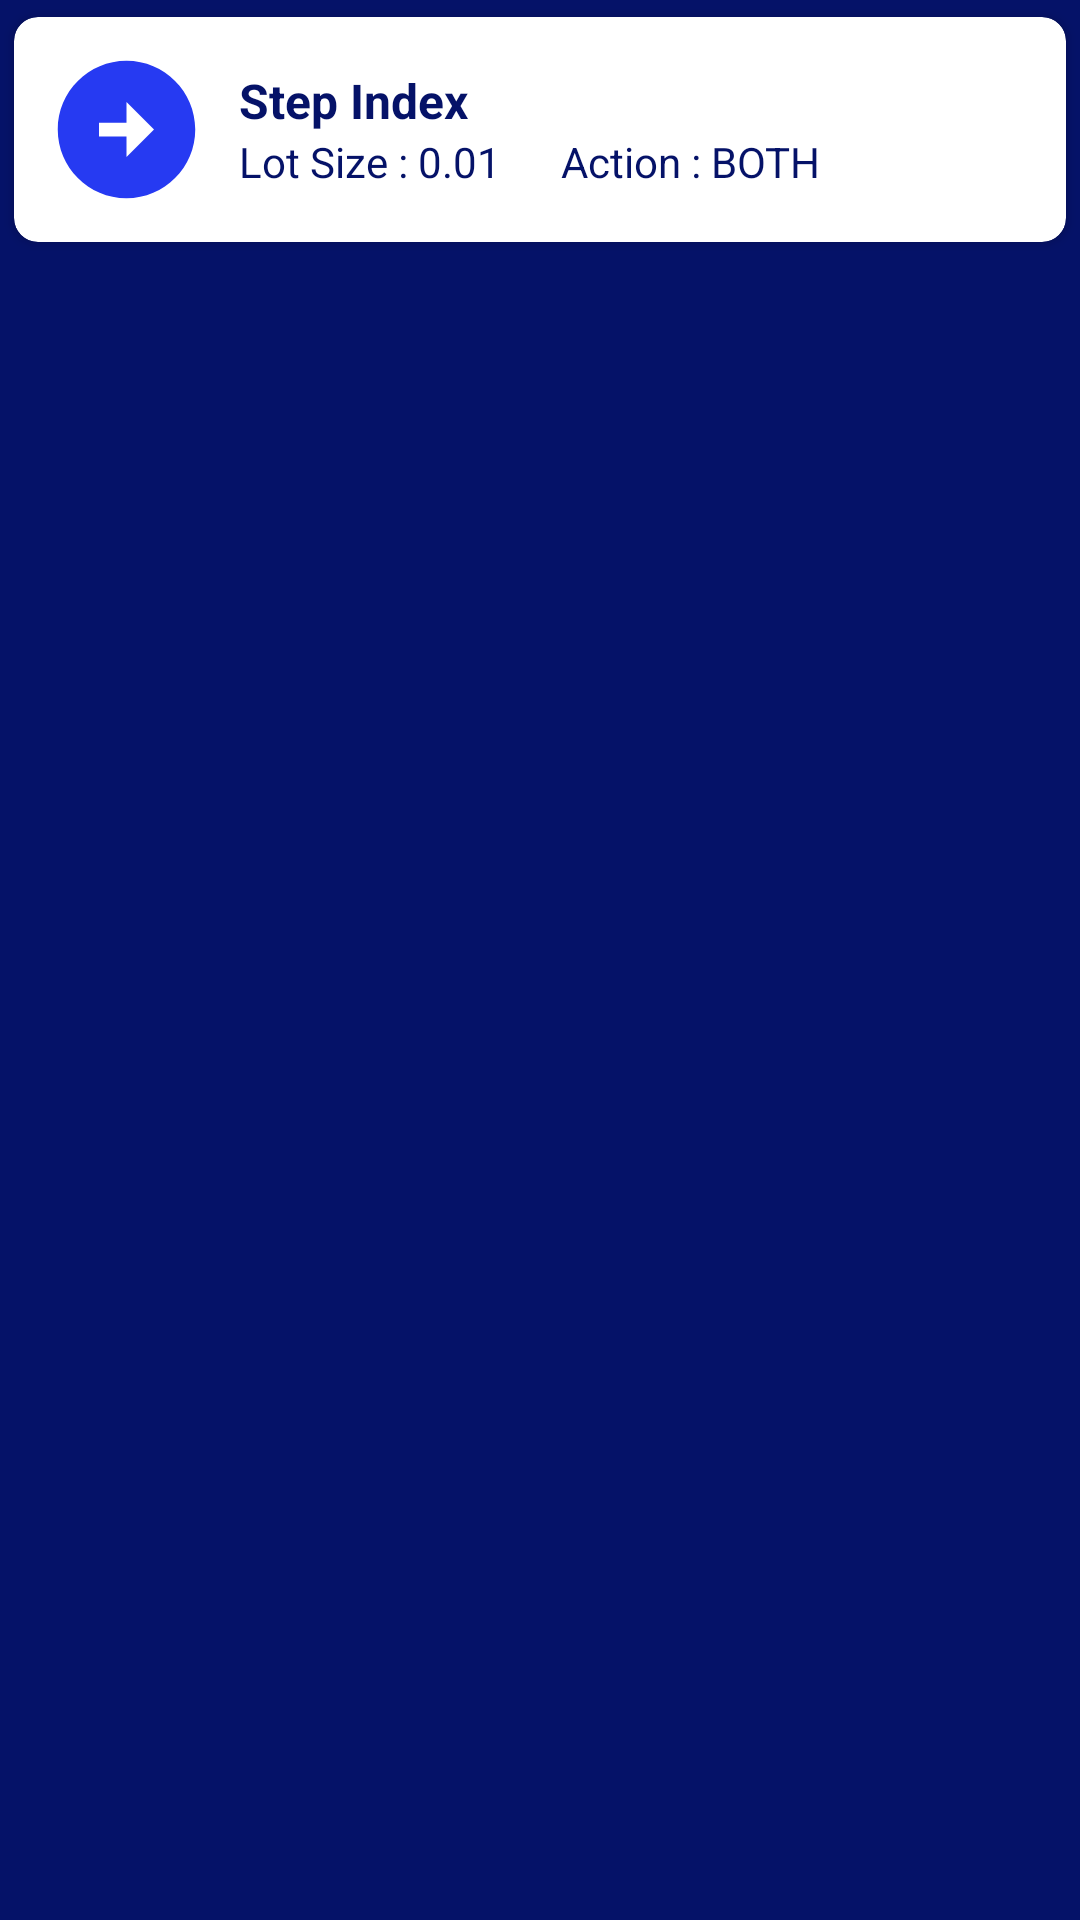

Screen size 1080x1920. Icon name, then its box in pixels as (x1, y1, x2, y2):
arrow circle right: (57, 60, 196, 199)
